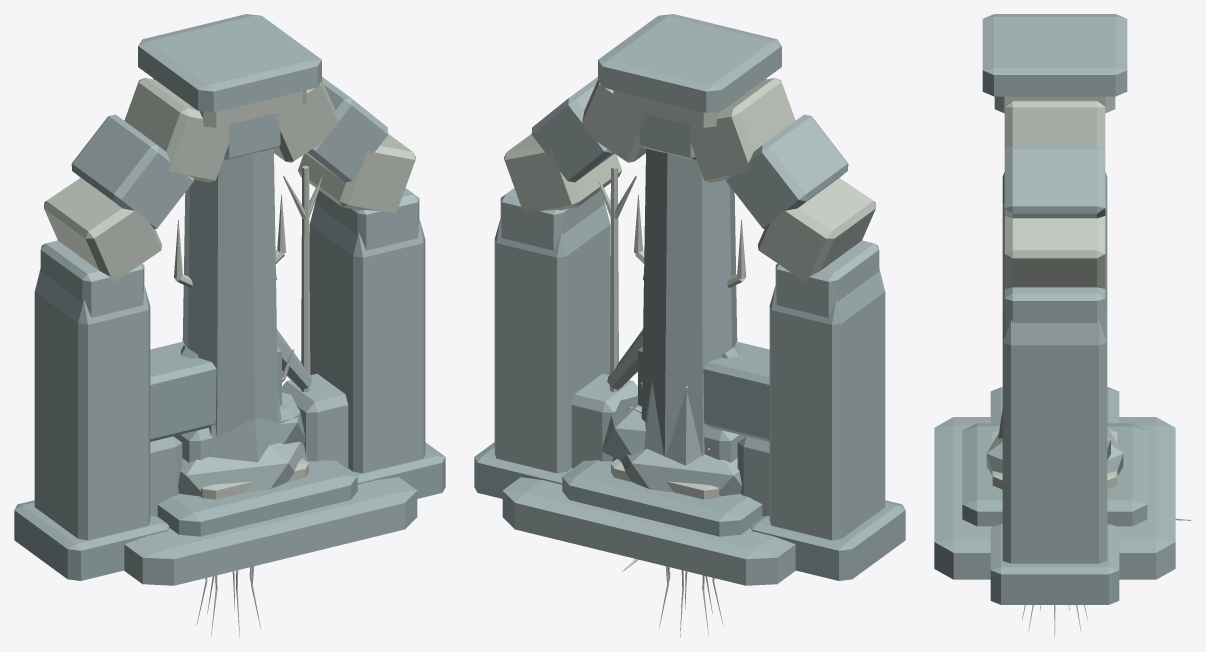
File: kit.glb
The picture shows the model from 3 angles, left to right: view 1: azimuth 30°, elevation 25°; view 2: azimuth 150°, elevation 25°; view 3: azimuth 270°, elevation 25°; orthographic projection.
Visible parts, largest first — view 1: arch, pillar, slab, broken_wall, ocean_statue, reef_rock, broken_pillar, trident, jellyfish; view 2: arch, pillar, slab, ocean_statue, broken_wall, reef_rock, broken_pillar, trident, jellyfish; view 3: arch, pillar, slab, ocean_statue, reef_rock, broken_pillar.
Boxes of the visible parts, x1,y1,x2,y2 form: arch: (14, 77, 445, 580); pillar: (138, 14, 321, 437); slab: (124, 477, 417, 585); broken_wall: (150, 341, 348, 516); ocean_statue: (157, 165, 357, 536); reef_rock: (178, 392, 307, 496); broken_pillar: (200, 274, 308, 499); trident: (174, 194, 286, 287); jellyfish: (196, 566, 260, 637); arch: (474, 77, 905, 580); pillar: (598, 14, 781, 456); slab: (502, 477, 795, 585); ocean_statue: (562, 166, 762, 536); broken_wall: (571, 341, 769, 516); reef_rock: (602, 396, 741, 496); broken_pillar: (611, 274, 719, 499); trident: (634, 194, 746, 287); jellyfish: (659, 566, 723, 637); arch: (990, 100, 1119, 604); pillar: (982, 14, 1127, 113); slab: (934, 417, 1175, 579); ocean_statue: (962, 409, 1147, 526); reef_rock: (986, 427, 1123, 475); broken_pillar: (992, 429, 1117, 489).
Bounding box in the file's own units: 5.5 × 7.98 × 3.2.
